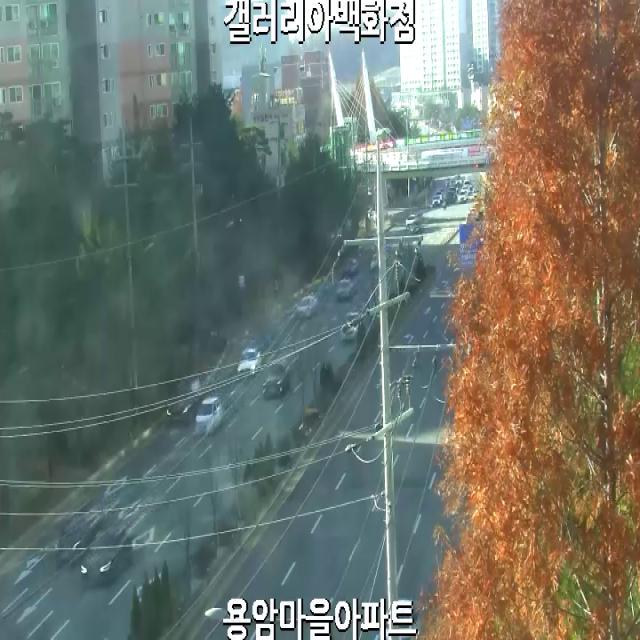Car: (80, 524, 132, 583), (167, 376, 200, 424), (263, 364, 290, 401), (196, 398, 223, 434), (237, 348, 261, 376), (296, 294, 319, 318), (336, 279, 357, 301)
